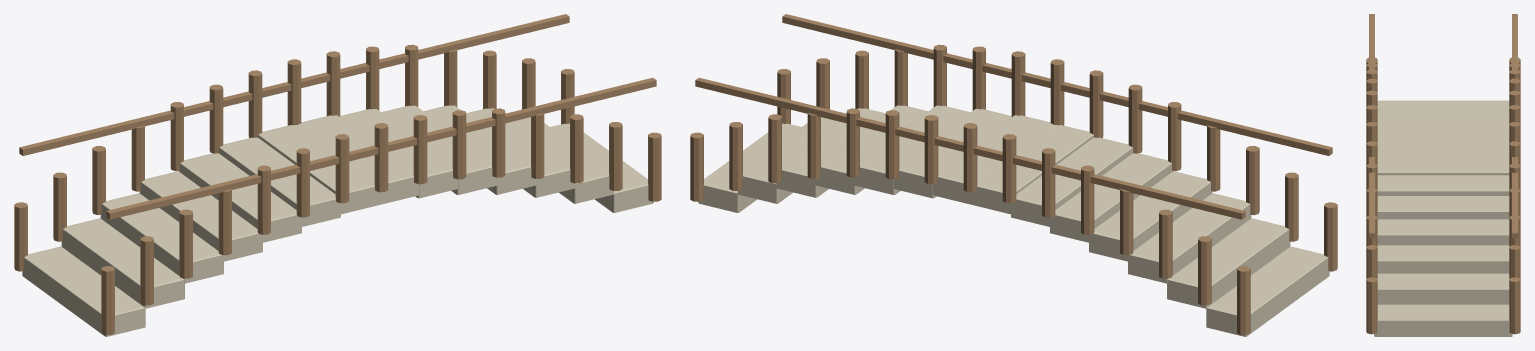
Rendered from bridge.glb.
3 renders of one model, left to right at view 1: azimuth 30°, elevation 25°; view 2: azimuth 150°, elevation 25°; view 3: azimuth 270°, elevation 25°, orthographic. The views are drawn at different scales.
Visible parts, largest first — view 1: Bridge; view 2: Bridge; view 3: Bridge.
Boxes of the visible parts, left/top/right/bottom form: Bridge: left=14, top=14, right=661, bottom=336; Bridge: left=690, top=14, right=1337, bottom=336; Bridge: left=1366, top=14, right=1520, bottom=336.
Bounding box in the file's own units: 4.6 × 1.15 × 1.34.
